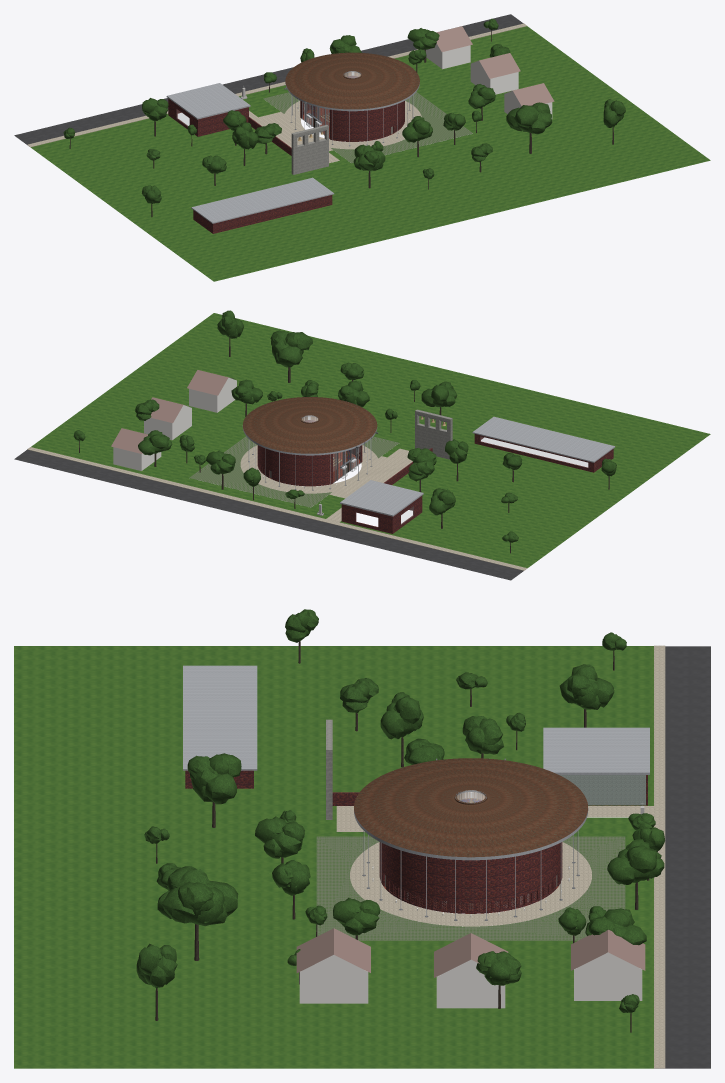
Rendered from St_Johann_von_Capistran_Muenchen.glb.
3 renders of one model, top to bottom at view 1: azimuth 30°, elevation 25°; view 2: azimuth 150°, elevation 25°; view 3: azimuth 270°, elevation 25°, orthographic. The views are drawn at different scales.
Visible parts, largest first — view 1: Lawn, Roof_Copper_Vault, Parsonage_Pfarrhaus, Neighbour_Houses_Context, Gotthelfstrasse, Parish_Hall_Pfarrsaal, Masonry_Double_Shell (outer 32 m / inner 28 m), Grass_Pavers, Paving_Circuitus_and_Forecourt, Bell_Wall_Glockenwand, Tree_23, Sidewalk (+8 smaller); view 2: Lawn, Gotthelfstrasse, Roof_Copper_Vault, Neighbour_Houses_Context, Parsonage_Pfarrhaus, Parish_Hall_Pfarrsaal, Paving_Circuitus_and_Forecourt, Masonry_Double_Shell (outer 32 m / inner 28 m), Grass_Pavers, Sidewalk, Bell_Wall_Glockenwand, Tree_23 (+9 smaller); view 3: Lawn, Gotthelfstrasse, Roof_Copper_Vault, Neighbour_Houses_Context, Grass_Pavers, Masonry_Double_Shell (outer 32 m / inner 28 m), Parsonage_Pfarrhaus, Parish_Hall_Pfarrsaal, Paving_Circuitus_and_Forecourt, Sidewalk, Tree_23, Tree_20 (+15 smaller).
Boxes of the visible parts, x1=… form: Lawn: x1=31, y1=26, x2=710, y2=281; Roof_Copper_Vault: x1=285, y1=52, x2=419, y2=109; Parsonage_Pfarrhaus: x1=191, y1=177, x2=334, y2=233; Neighbour_Houses_Context: x1=424, y1=26, x2=554, y2=118; Gotthelfstrasse: x1=14, y1=14, x2=523, y2=144; Parish_Hall_Pfarrsaal: x1=166, y1=83, x2=250, y2=136; Masonry_Double_Shell (outer 32 m / inner 28 m): x1=300, y1=75, x2=404, y2=141; Grass_Pavers: x1=263, y1=92, x2=472, y2=163; Paving_Circuitus_and_Forecourt: x1=249, y1=101, x2=421, y2=163; Bell_Wall_Glockenwand: x1=291, y1=124, x2=328, y2=174; Tree_23: x1=506, y1=102, x2=552, y2=153; Sidewalk: x1=27, y1=23, x2=526, y2=147; Lawn: x1=31, y1=313, x2=710, y2=568; Gotthelfstrasse: x1=14, y1=449, x2=523, y2=580; Roof_Copper_Vault: x1=243, y1=397, x2=377, y2=453; Neighbour_Houses_Context: x1=111, y1=370, x2=236, y2=470; Parsonage_Pfarrhaus: x1=472, y1=416, x2=615, y2=472; Parish_Hall_Pfarrsaal: x1=340, y1=480, x2=423, y2=533; Paving_Circuitus_and_Forecourt: x1=240, y1=445, x2=412, y2=522; Masonry_Double_Shell (outer 32 m / inner 28 m): x1=257, y1=420, x2=362, y2=486; Grass_Pavers: x1=189, y1=436, x2=398, y2=507; Sidewalk: x1=27, y1=447, x2=527, y2=570; Bell_Wall_Glockenwand: x1=415, y1=409, x2=452, y2=459; Tree_23: x1=270, y1=330, x2=312, y2=382; Lawn: x1=14, y1=646, x2=653, y2=1068; Gotthelfstrasse: x1=665, y1=646, x2=710, y2=1068; Roof_Copper_Vault: x1=354, y1=758, x2=587, y2=857; Neighbour_Houses_Context: x1=296, y1=928, x2=645, y2=1008; Grass_Pavers: x1=316, y1=836, x2=625, y2=940; Masonry_Double_Shell (outer 32 m / inner 28 m): x1=379, y1=842, x2=562, y2=913; Parsonage_Pfarrhaus: x1=183, y1=665, x2=257, y2=788; Parish_Hall_Pfarrsaal: x1=543, y1=727, x2=649, y2=805; Paving_Circuitus_and_Forecourt: x1=336, y1=806, x2=653, y2=926; Sidewalk: x1=654, y1=645, x2=665, y2=1068; Tree_23: x1=157, y1=866, x2=238, y2=960; Tree_20: x1=187, y1=753, x2=241, y2=827.
Size of the model in its own units: 175 by 19.26 by 122.
43 materials, 22 textured.
